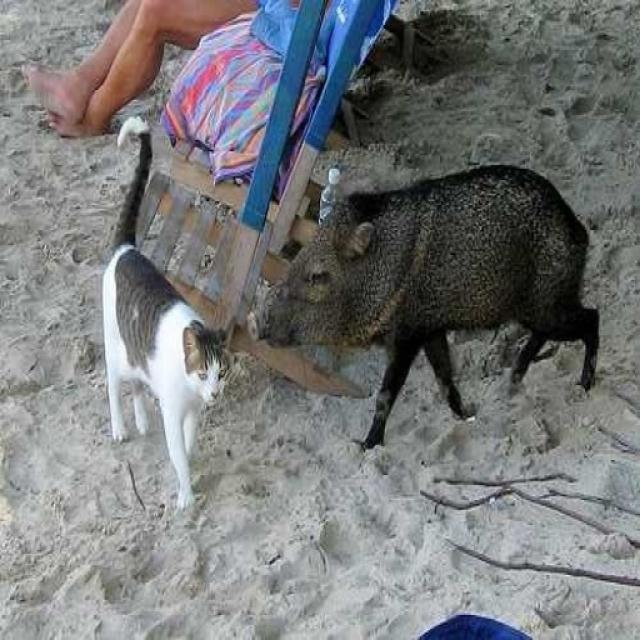pig: (249, 160, 635, 440)
